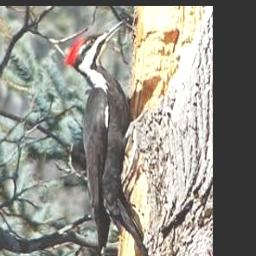Woodpecker: (66, 20, 149, 256)
